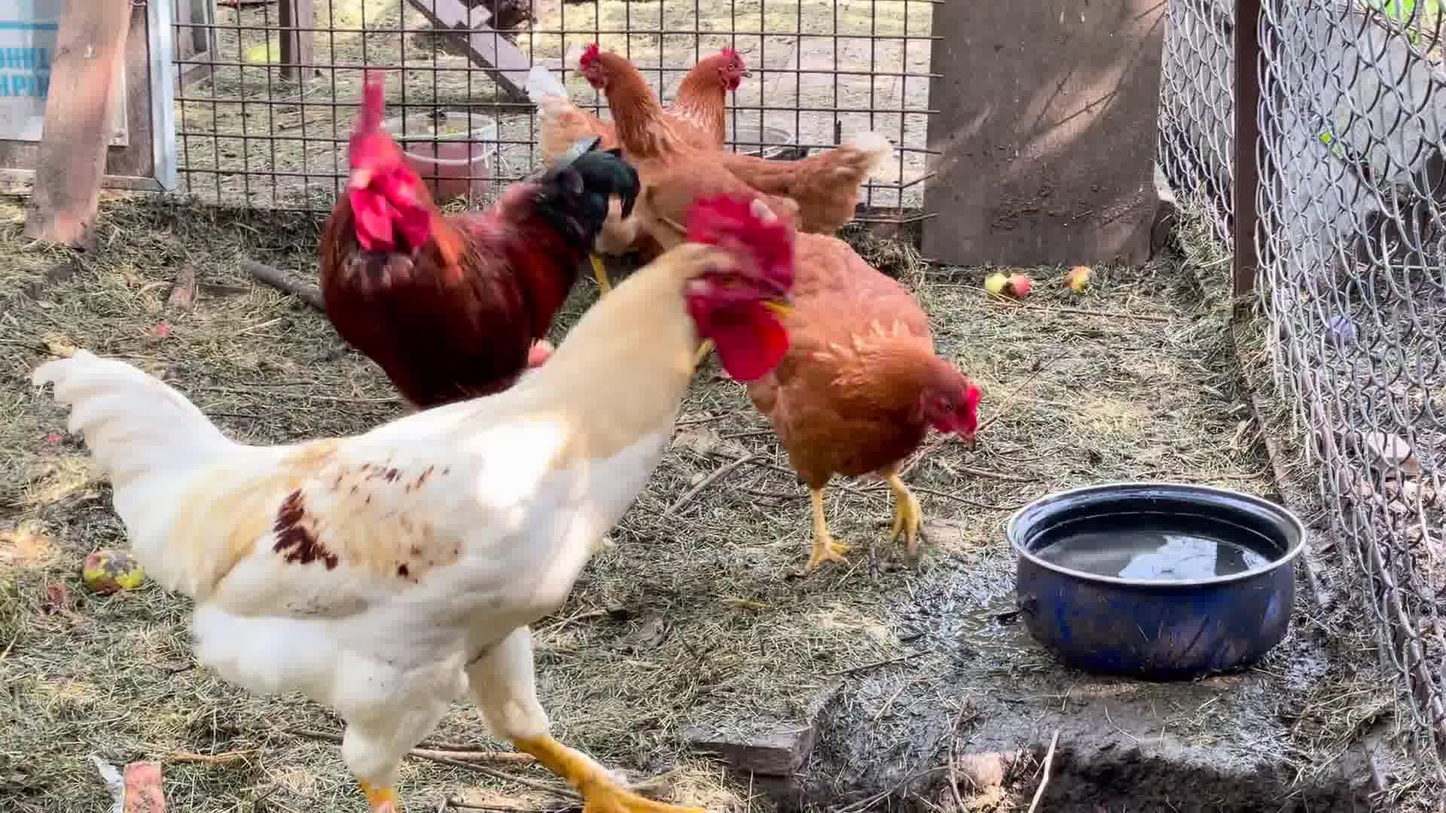Normal: (46, 192, 790, 813), (292, 74, 617, 395), (569, 36, 875, 232), (526, 34, 748, 154)
